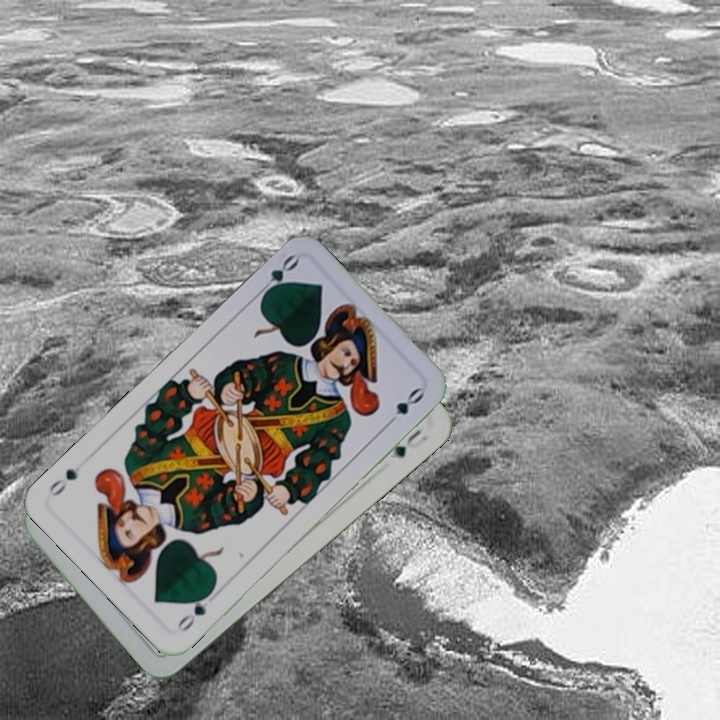GO: (252, 250, 301, 302), (173, 585, 216, 635)
